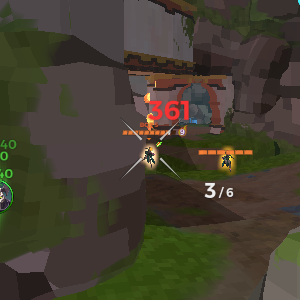model: (220, 144, 238, 179), (142, 143, 158, 167)
